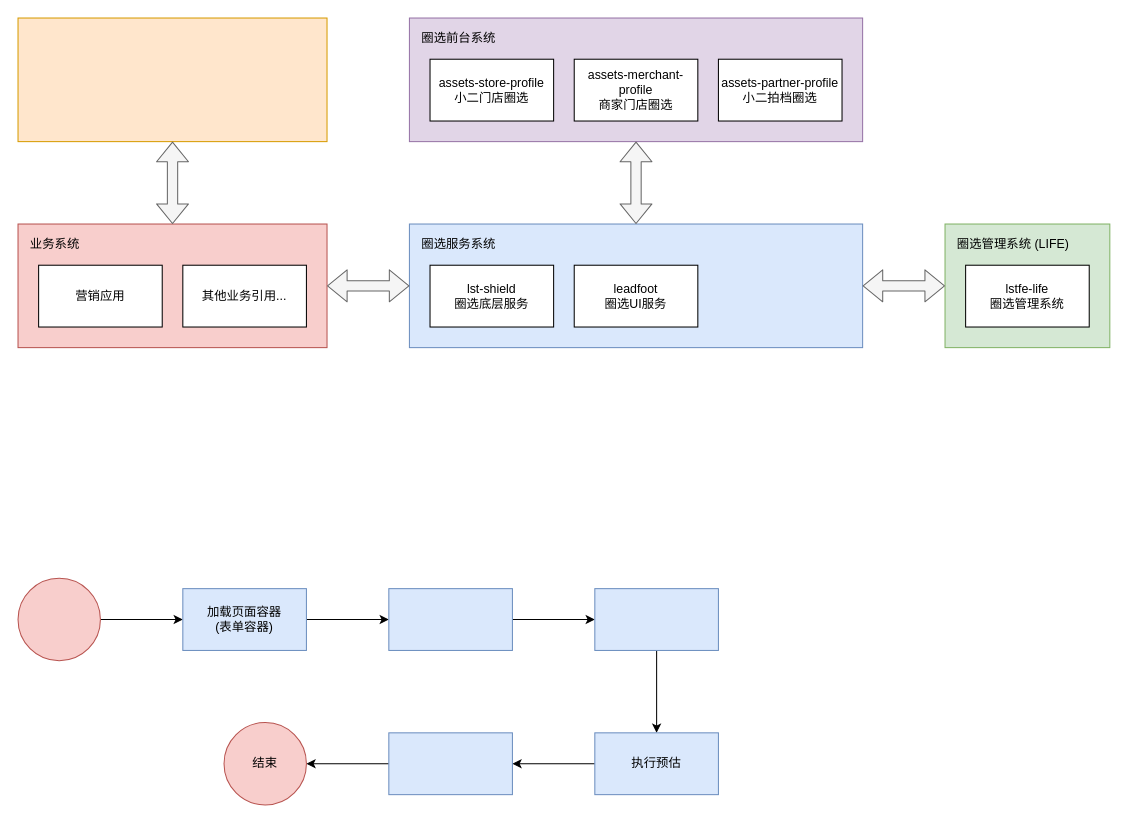
This 1128x823 diagram has some shape labels left out. The centre of each missing label's shape, as x and y in pixels:
"业务前台系统" goes at point (172, 79).
"保存人群" goes at point (450, 763).
"动态加载schema" goes at point (450, 619).
"动态组装表单" goes at point (656, 619).
"开始" goes at point (58, 619).
